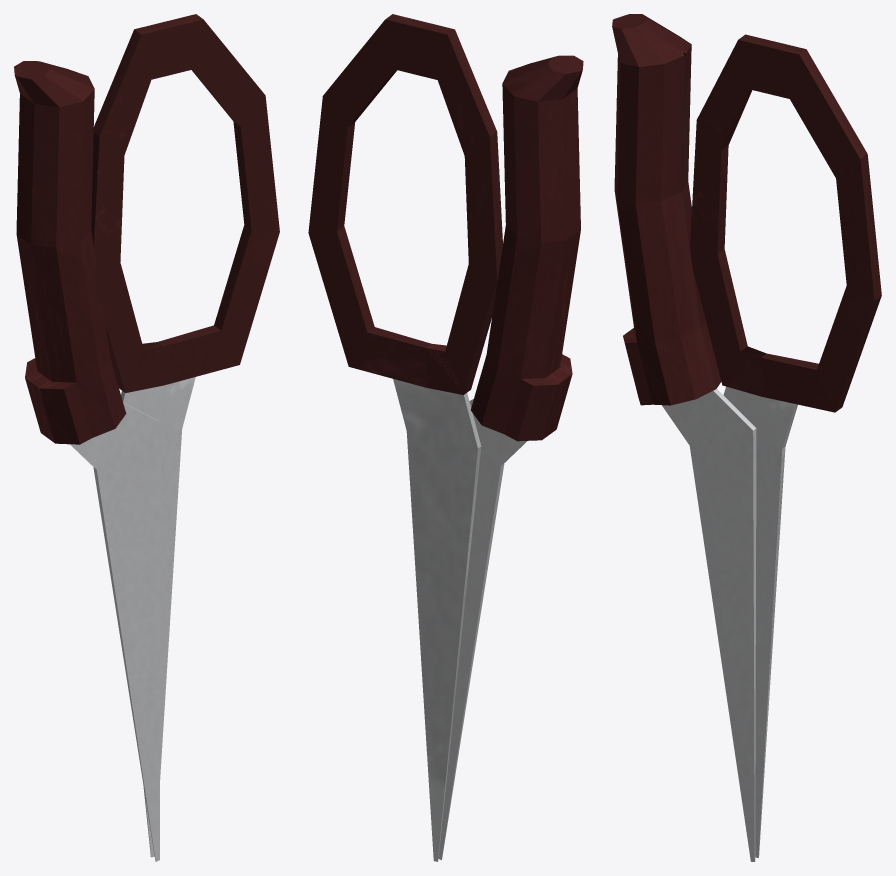
Rendered from scissors .fbx.
3 views of the same model, side by side, from view 1: azimuth 30°, elevation 25°; view 2: azimuth 150°, elevation 25°; view 3: azimuth 330°, elevation 25° (orthographic).
Visible parts, largest first — view 1: Cylinder.002, Cylinder.001; view 2: Cylinder.001, Cylinder.002; view 3: Cylinder.002, Cylinder.001.
Boxes of the visible parts, x1,y1,x2,y2 form: Cylinder.002: (14, 61, 160, 861); Cylinder.001: (91, 14, 279, 857); Cylinder.001: (308, 14, 502, 861); Cylinder.002: (438, 55, 583, 860); Cylinder.002: (612, 14, 756, 861); Cylinder.001: (690, 34, 881, 857).
Size of the model in its own units: 144 by 431 by 39.58.
